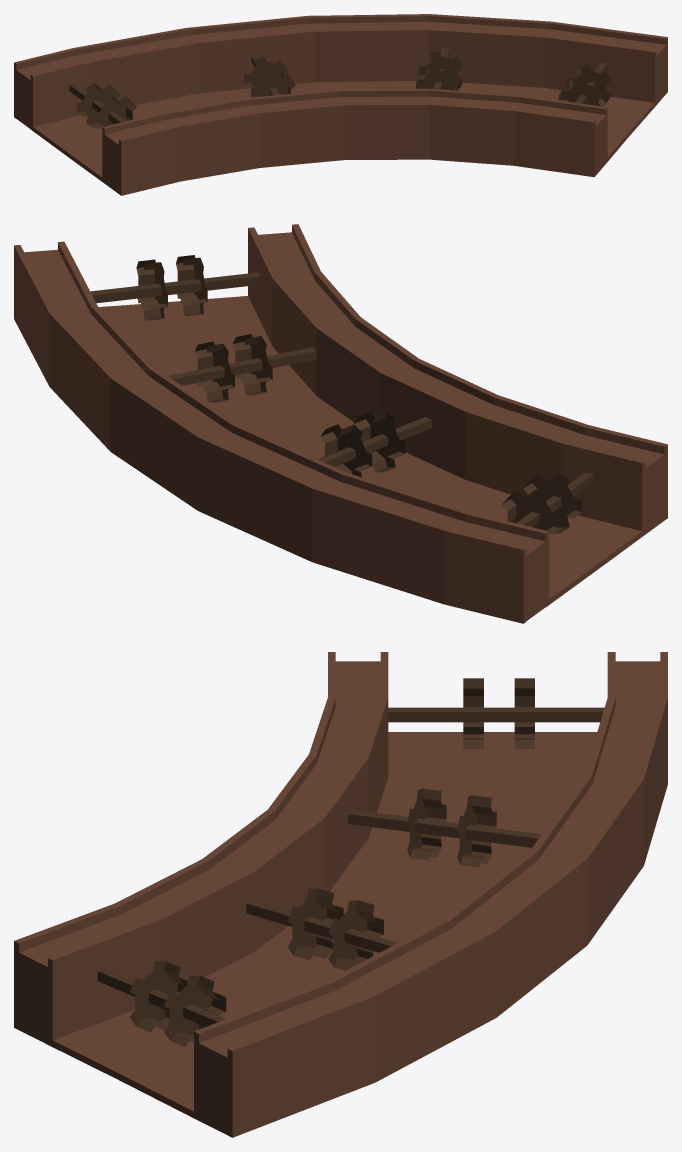
Rendered from rail droit 2 num 2.fbx.
The picture shows the model from 3 angles, top to bottom: view 1: azimuth 30°, elevation 25°; view 2: azimuth 150°, elevation 25°; view 3: azimuth 270°, elevation 25°; orthographic projection. The views are drawn at different scales.
Visible parts, largest first — view 1: rail droit 2, petite roue 3.012, attache roue.012; view 2: rail droit 2, petite roue 3.012, attache roue.012; view 3: rail droit 2, petite roue 3.012, attache roue.012.
Part boxes in pixels (bbox=[...]): rail droit 2: bbox=[14, 14, 667, 195]; petite roue 3.012: bbox=[77, 51, 611, 128]; attache roue.012: bbox=[69, 48, 607, 123]; rail droit 2: bbox=[14, 224, 667, 623]; petite roue 3.012: bbox=[136, 255, 581, 534]; attache roue.012: bbox=[90, 272, 593, 527]; rail droit 2: bbox=[14, 652, 667, 1137]; petite roue 3.012: bbox=[129, 678, 534, 1046]; attache roue.012: bbox=[97, 707, 604, 1026].
Bounding box in the file's own units: 1221 × 126 × 845.
